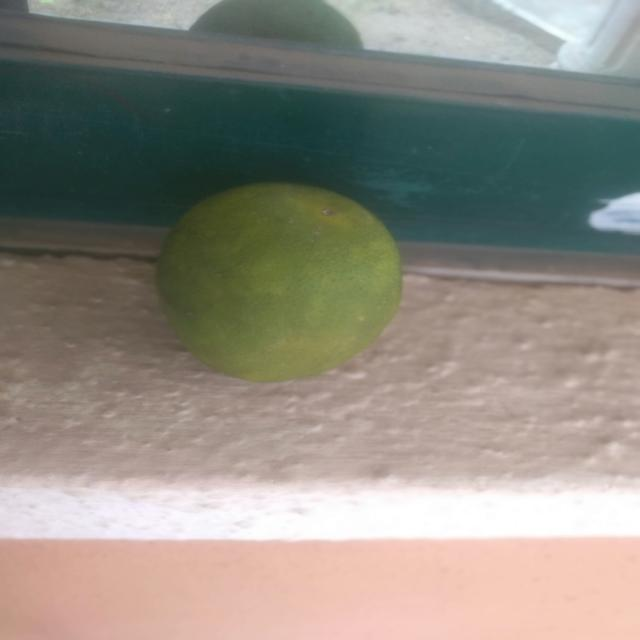Unripe: (149, 169, 429, 398)
